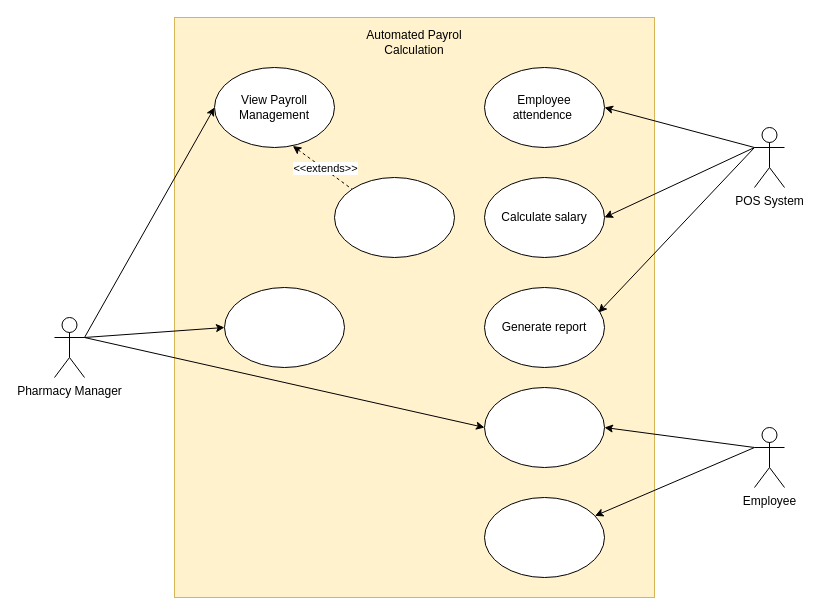
This 821x615 diagram has some shape labels left out. The box of each missing label's shape, as (x1, y1, x2, y2) in pixels:
Update Payroll report: (224, 286, 344, 368)
verify employee records: (334, 176, 454, 258)
View payrol report: (484, 386, 604, 468)
View salary: (484, 496, 604, 578)
